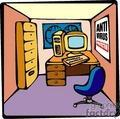chair: (73, 63, 103, 106)
tvmonitor: (64, 30, 88, 54)
